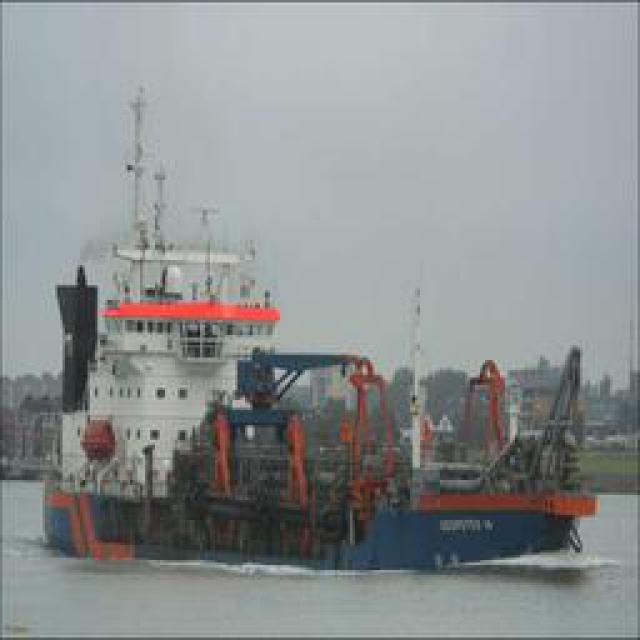Ship: (50, 163, 593, 578)
